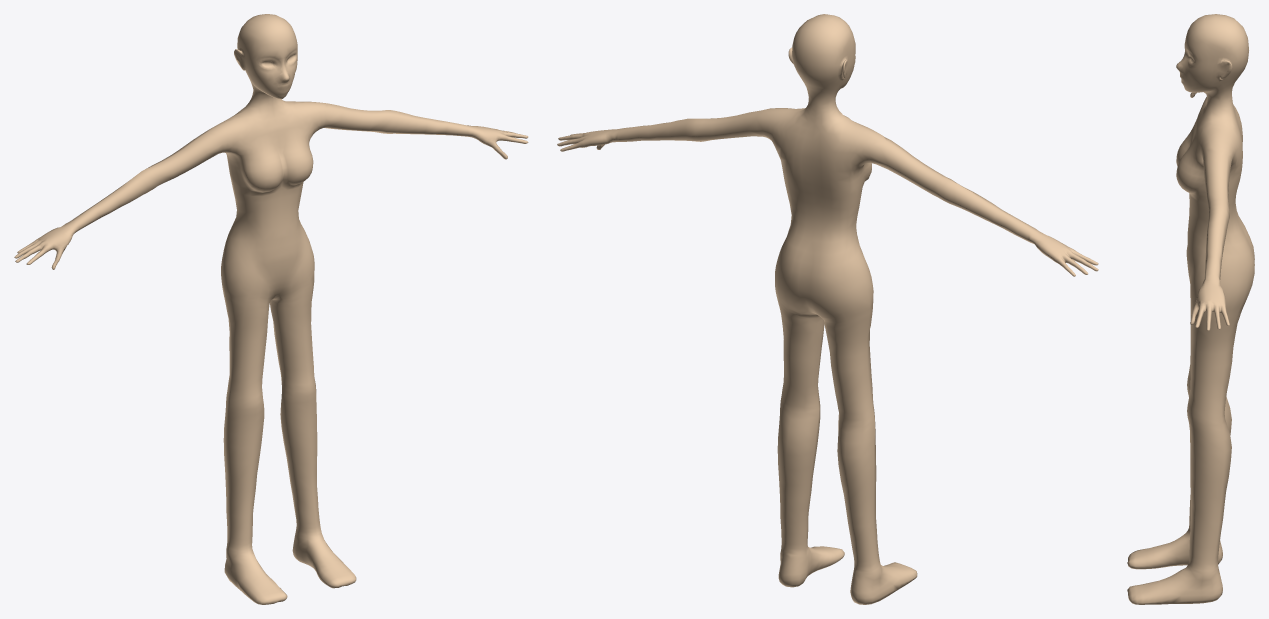
File: f_body_01.fbx
The picture shows the model from 3 angles, left to right: view 1: azimuth 30°, elevation 25°; view 2: azimuth 150°, elevation 25°; view 3: azimuth 270°, elevation 25°; orthographic projection. The views are drawn at different scales.
Visible parts, largest first — view 1: f_body_01; view 2: f_body_01; view 3: f_body_01.
Boxes of the visible parts, x1,y1,x2,y2 form: f_body_01: (14, 14, 528, 604); f_body_01: (557, 14, 1098, 604); f_body_01: (1127, 14, 1254, 604).
Size of the model in its own units: 176 by 180 by 36.92.
